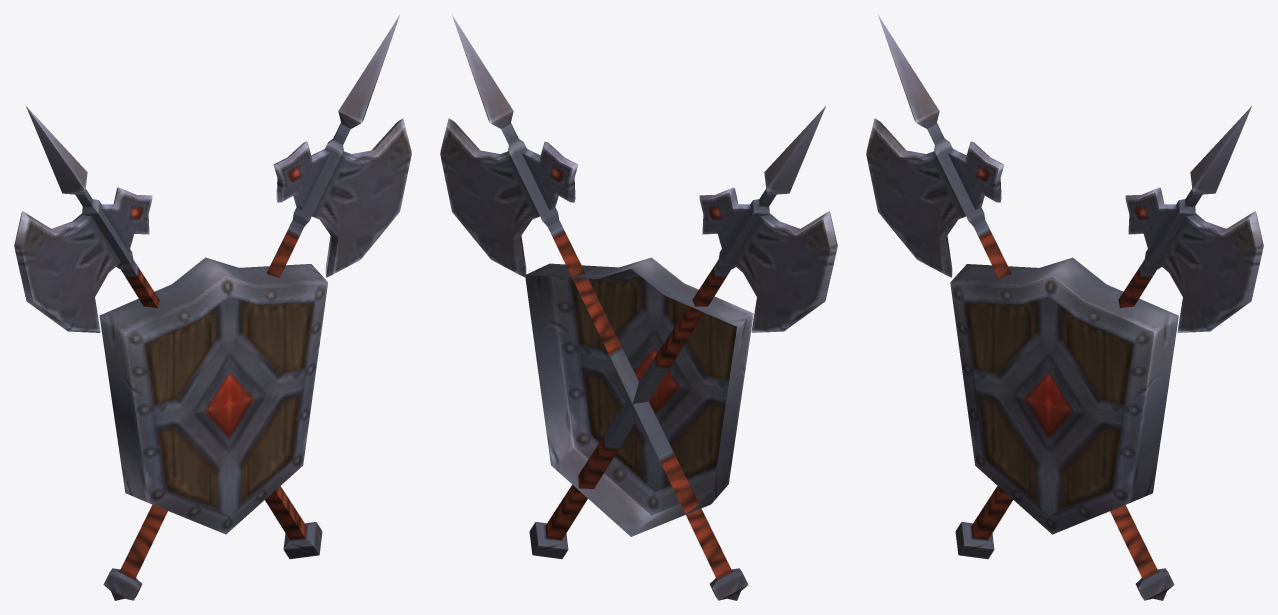
File: halberd_house_prop_1.FBX
The picture shows the model from 3 angles, left to right: view 1: azimuth 30°, elevation 25°; view 2: azimuth 150°, elevation 25°; view 3: azimuth 330°, elevation 25°; orthographic projection.
Parts seen in each view (by area): view 1: halberd_house_prop_1; view 2: halberd_house_prop_1; view 3: halberd_house_prop_1.
Part boxes in pixels (x1,y1,x2,y2): halberd_house_prop_1: (14,15,411,600); halberd_house_prop_1: (440,15,837,600); halberd_house_prop_1: (866,15,1263,600).
Bounding box in the file's own units: 50.89 × 63.5 × 6.63.
